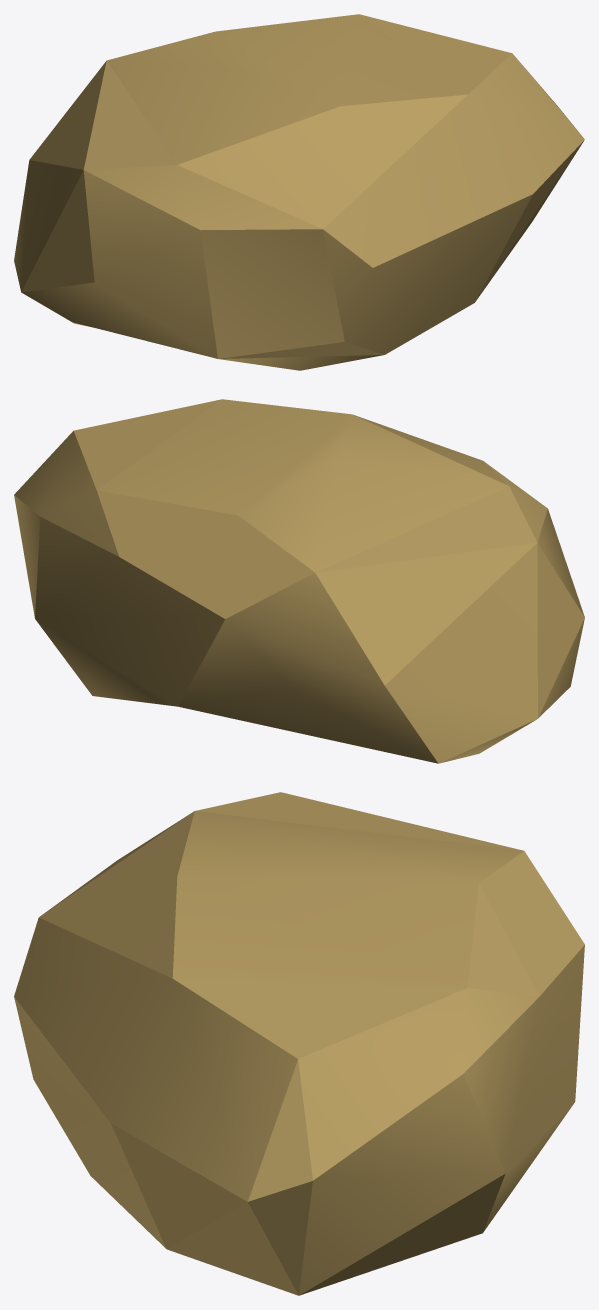
The model's file is a_z3_rock_s.fbx.
The picture shows the model from 3 angles, top to bottom: view 1: azimuth 30°, elevation 25°; view 2: azimuth 150°, elevation 25°; view 3: azimuth 270°, elevation 25°; orthographic projection. The views are drawn at different scales.
Visible parts, largest first — view 1: a_z3_rock_s; view 2: a_z3_rock_s; view 3: a_z3_rock_s.
Boxes of the visible parts, left/top/right/bottom form: a_z3_rock_s: left=14, top=14, right=584, bottom=370; a_z3_rock_s: left=14, top=399, right=584, bottom=763; a_z3_rock_s: left=14, top=792, right=584, bottom=1295.
Bounding box in the file's own units: 194 × 90 × 143.
